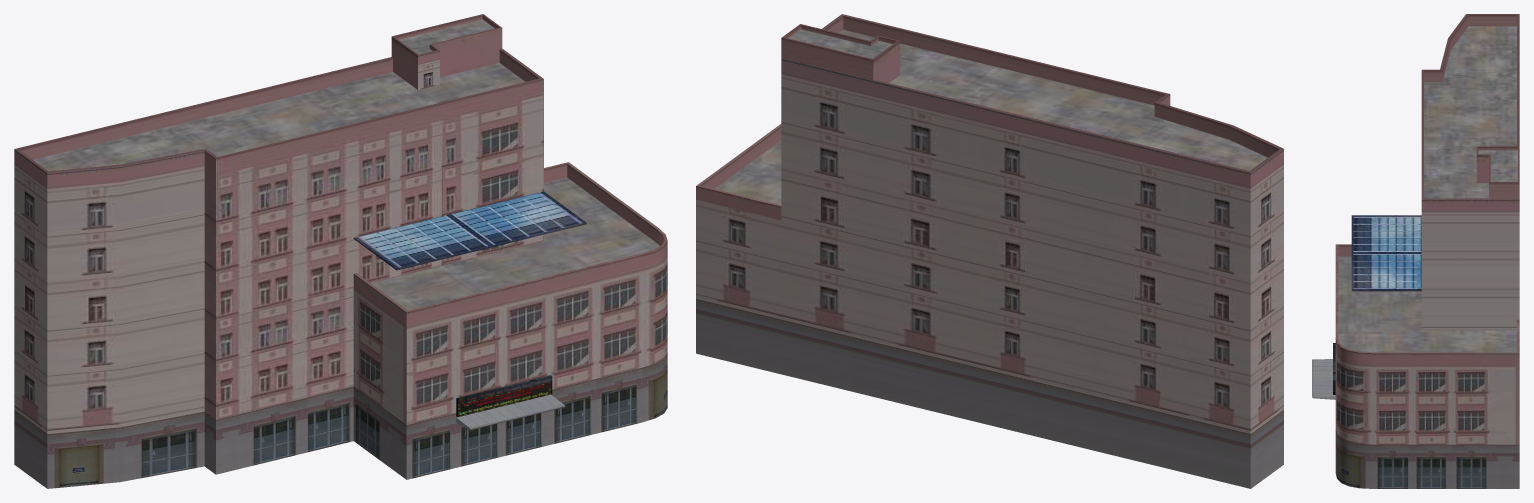
3 views of the same model, side by side, from view 1: azimuth 30°, elevation 25°; view 2: azimuth 150°, elevation 25°; view 3: azimuth 270°, elevation 25° (orthographic). The views are drawn at different scales.
Visible parts, largest first — view 1: HN616_CucThongKeHaNoi; view 2: HN616_CucThongKeHaNoi; view 3: HN616_CucThongKeHaNoi.
Boxes of the visible parts, x1,y1,x2,y2 form: HN616_CucThongKeHaNoi: (14,14,667,488); HN616_CucThongKeHaNoi: (696,14,1283,488); HN616_CucThongKeHaNoi: (1312,14,1519,488).
Bounding box in the file's own units: 42.24 × 24.5 × 16.9.
Materials: 1 (1 with a texture image).
